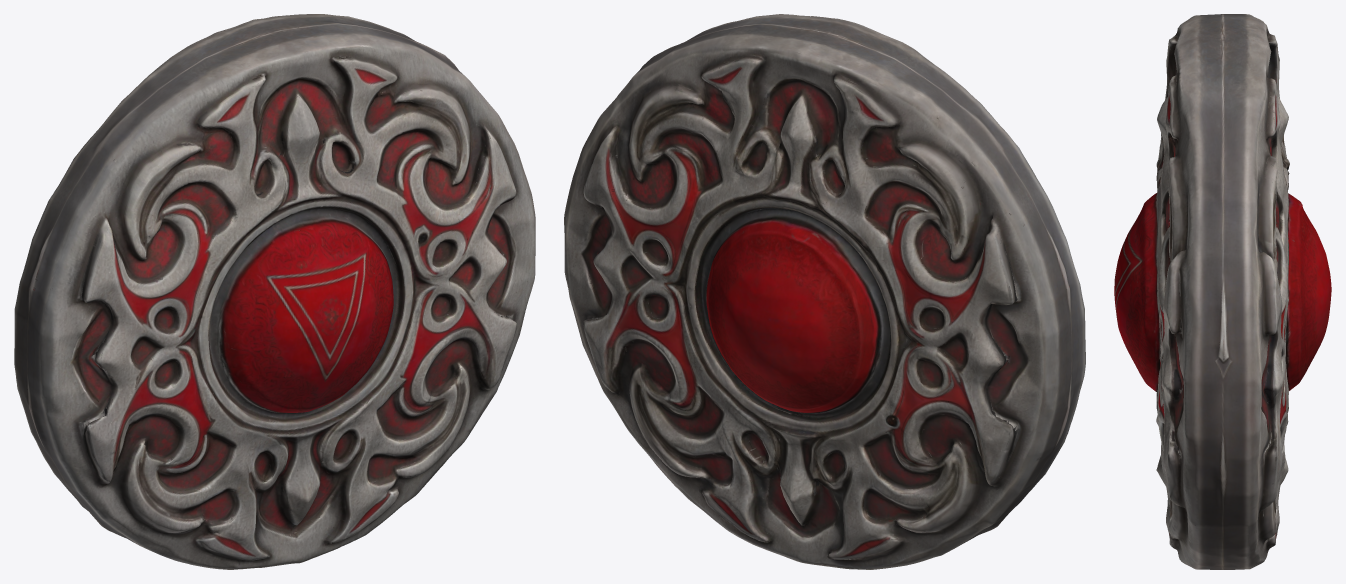
Rendered from Meshy_AI_Inferno_Seal_1026121053_texture.fbx.
3 renders of one model, left to right at view 1: azimuth 30°, elevation 25°; view 2: azimuth 150°, elevation 25°; view 3: azimuth 270°, elevation 25°, orthographic. The views are drawn at different scales.
Parts seen in each view (by area): view 1: Mesh1.0; view 2: Mesh1.0; view 3: Mesh1.0.
Part boxes in pixels (left/top/right/bottom): Mesh1.0: left=14, top=14, right=535, bottom=569; Mesh1.0: left=564, top=14, right=1085, bottom=569; Mesh1.0: left=1114, top=14, right=1331, bottom=569.
Bounding box in the file's own units: 200 × 201 × 78.56.
Materials: 1 (1 with a texture image).
